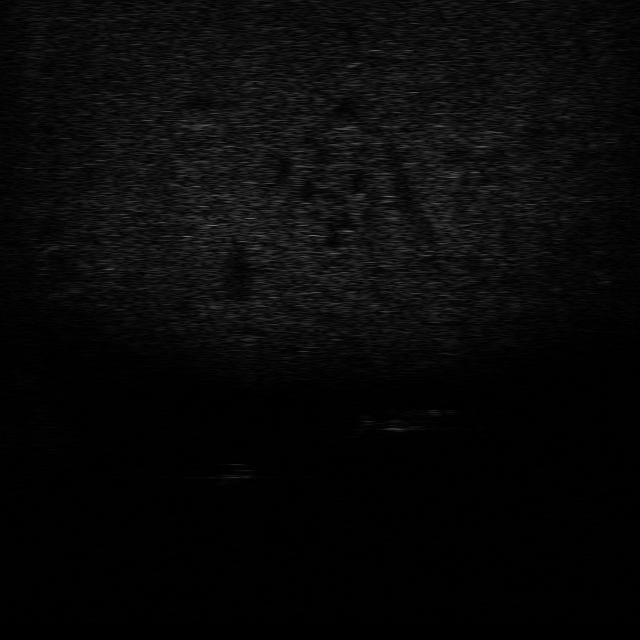ball: (210, 456, 260, 484)
human body: (349, 405, 459, 436)
